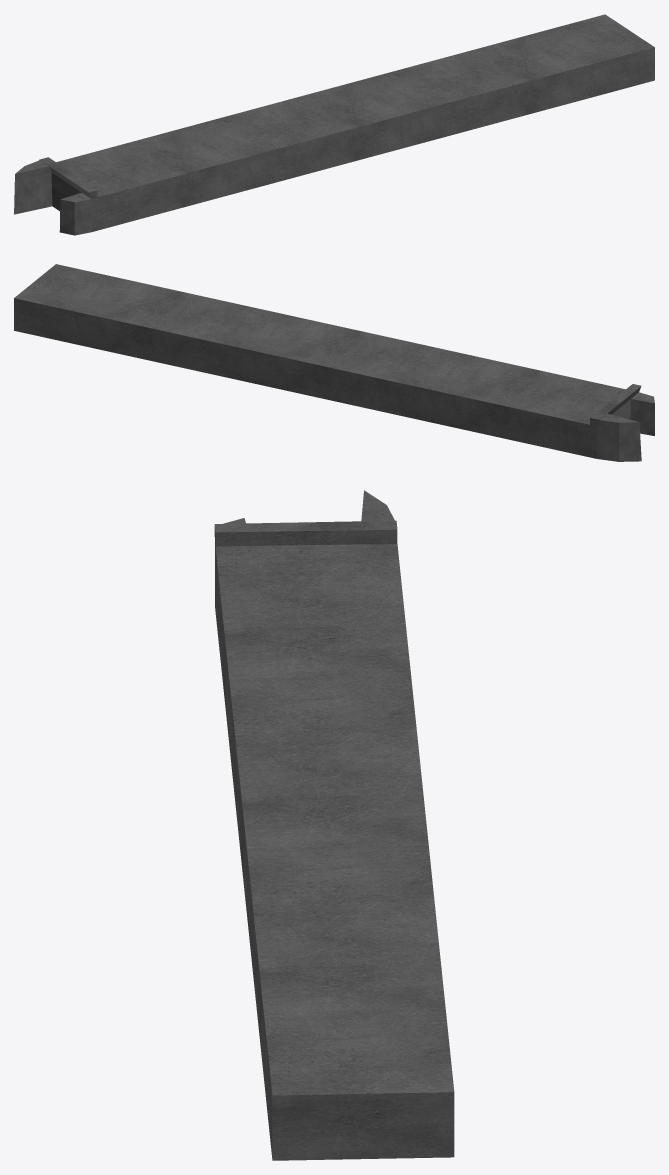
The model's file is cleplate.fbx.
The picture shows the model from 3 angles, top to bottom: view 1: azimuth 30°, elevation 25°; view 2: azimuth 150°, elevation 25°; view 3: azimuth 270°, elevation 25°; orthographic projection. The views are drawn at different scales.
Visible parts, largest first — view 1: pasted__pCube1; view 2: pasted__pCube1; view 3: pasted__pCube1.
Boxes of the visible parts, left/top/right/bottom form: pasted__pCube1: left=14, top=14, right=654, bottom=235; pasted__pCube1: left=14, top=264, right=654, bottom=461; pasted__pCube1: left=214, top=490, right=454, bottom=1160.
Bounding box in the file's own units: 23.92 × 1.49 × 4.08.
Materials: 1 (1 with a texture image).
